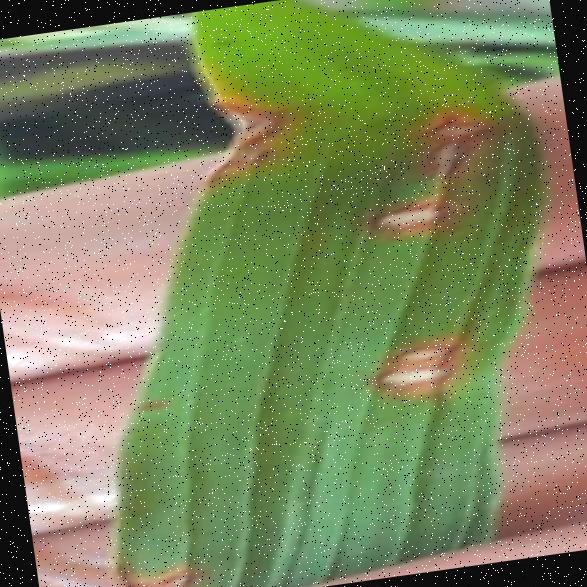Leaf_smut: (174, 65, 304, 199), (346, 169, 460, 267), (415, 88, 512, 153), (409, 132, 498, 201), (372, 351, 466, 406), (382, 315, 468, 369)
